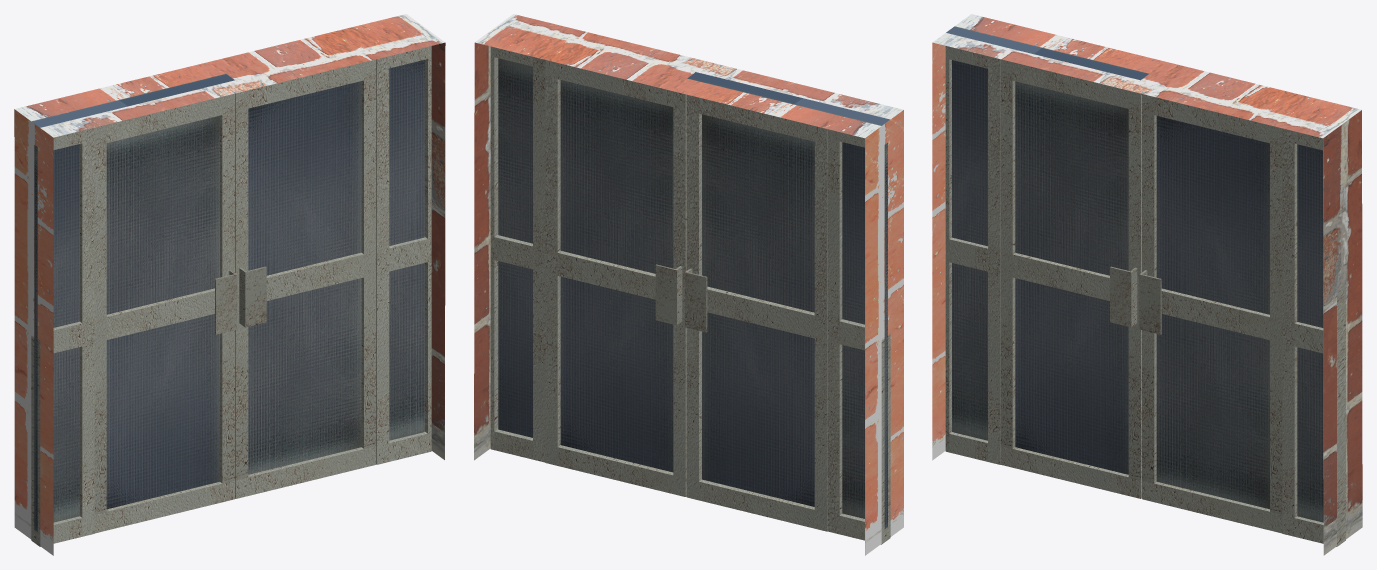
Rendered from Door_003.fbx.
3 views of the same model, side by side, from view 1: azimuth 30°, elevation 25°; view 2: azimuth 150°, elevation 25°; view 3: azimuth 330°, elevation 25° (orthographic).
Visible parts, largest first — view 1: Door_003; view 2: Door_003; view 3: Door_003.
Boxes of the visible parts, box(x1,y1,x2,y2) form: Door_003: box(14, 14, 445, 555); Door_003: box(474, 14, 903, 555); Door_003: box(932, 14, 1362, 555).
Size of the model in its own units: 214 by 219 by 37.47.
Materials: 1 (1 with a texture image).
